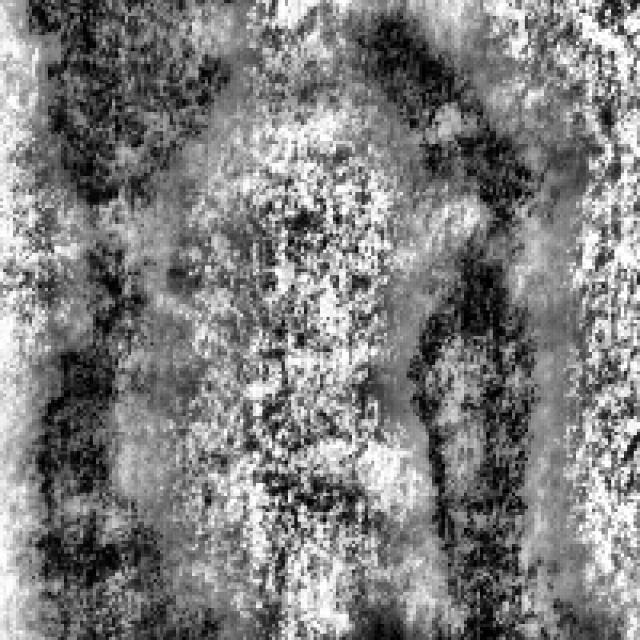Scratches: (358, 217, 605, 634), (9, 240, 204, 637), (346, 0, 554, 253), (16, 0, 240, 211)
